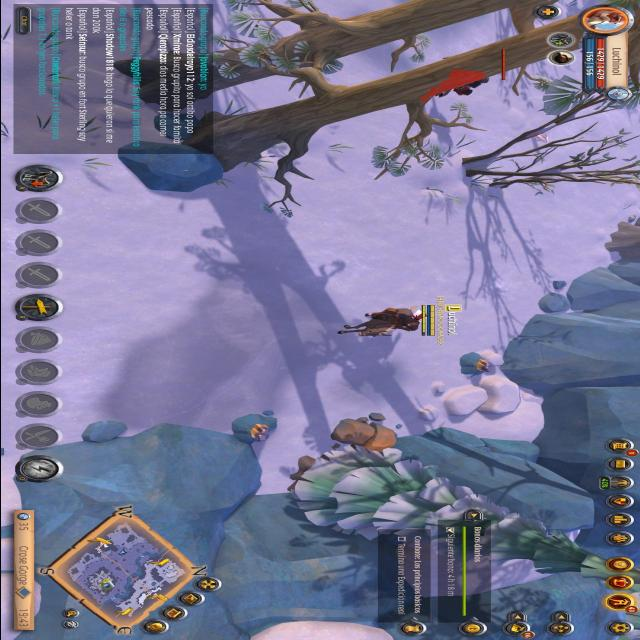piedra_cobre: (229, 412, 277, 442), (458, 352, 488, 372)
